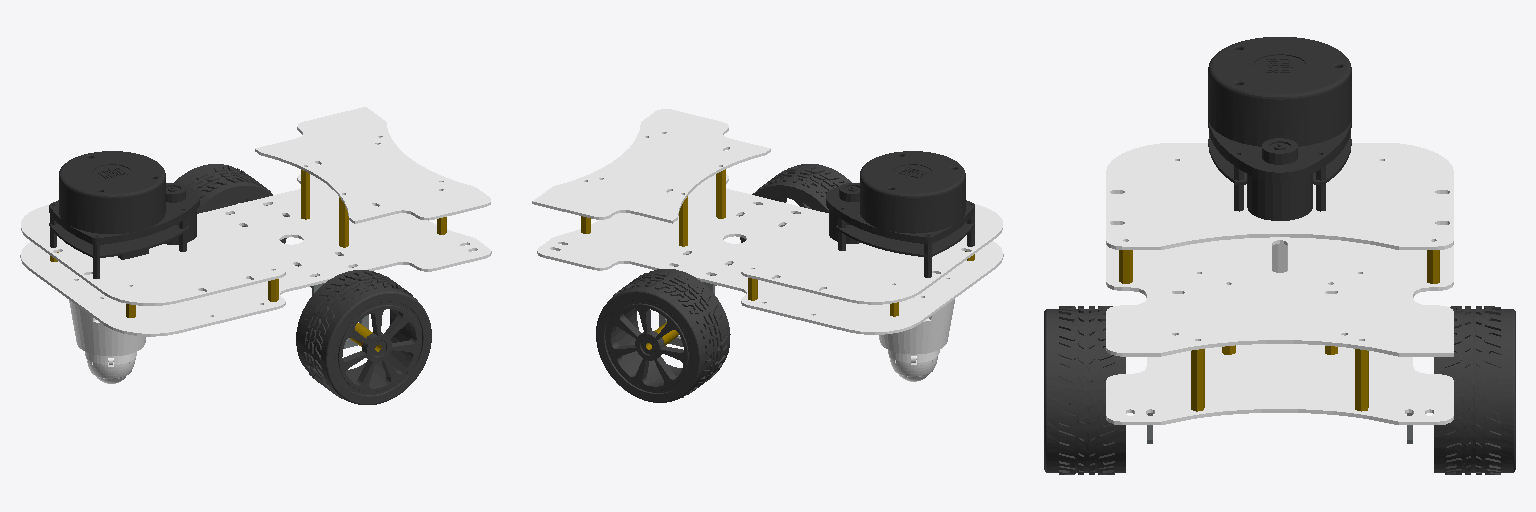
URDF robot description (bot_description):
<?xml version="1.0" encoding="utf-8"?>
<!-- This URDF was automatically created by SolidWorks to URDF Exporter! Originally created by [author] ([email redacted]) 
     Commit Version: 1.6.0-1-g15f4949  Build Version: 1.6.7594.29634
     For more information, please see http://wiki.ros.org/sw_urdf_exporter -->
<robot
  name="bot_description">
  <link
    name="base_link">
    <inertial>
      <origin
        xyz="-0.038188 -2.7756E-17 0"
        rpy="0 0 0" />
      <mass
        value="0.8" />
      <inertia
        ixx="0.0001804"
        ixy="-9.7007E-20"
        ixz="-3.3783E-22"
        iyy="0.00053906"
        iyz="-8.3789E-23"
        izz="0.0007194" />
    </inertial>
    <visual>
      <origin
        xyz="0 0 0"
        rpy="0 0 0" />
      <geometry>
        <mesh
          filename="package://bot_description/meshes/base_link.STL" />
      </geometry>
      <material
        name="">
        <color
          rgba="1 1 1 0.32" />
      </material>
    </visual>
    <collision>
      <origin
        xyz="0 0 0"
        rpy="0 0 0" />
      <geometry>
        <mesh
          filename="package://bot_description/meshes/base_link.STL" />
      </geometry>
    </collision>
  </link>
  <link
    name="right_bracket">
    <inertial>
      <origin
        xyz="-0.010316 0.013793 -3.4694E-18"
        rpy="0 0 0" />
      <mass
        value="0.045578" />
      <inertia
        ixx="2.1019E-05"
        ixy="3.1847E-06"
        ixz="-3.4097E-21"
        iyy="1.1949E-05"
        iyz="7.5589E-23"
        izz="1.6242E-05" />
    </inertial>
    <visual>
      <origin
        xyz="0 0 0"
        rpy="0 0 0" />
      <geometry>
        <mesh
          filename="package://bot_description/meshes/right_bracket.STL" />
      </geometry>
      <material
        name="">
        <color
          rgba="0.52941 0.54902 0.54902 1" />
      </material>
    </visual>
    <collision>
      <origin
        xyz="0 0 0"
        rpy="0 0 0" />
      <geometry>
        <mesh
          filename="package://bot_description/meshes/right_bracket.STL" />
      </geometry>
    </collision>
  </link>
  <joint
    name="right_bracket_joint"
    type="fixed">
    <origin
      xyz="0 -0.0475 -0.001"
      rpy="-1.5708 0 1.5708" />
    <parent
      link="base_link" />
    <child
      link="right_bracket" />
    <axis
      xyz="0 0 0" />
  </joint>
  <link
    name="right_coupler">
    <inertial>
      <origin
        xyz="-8.1082E-06 -0.015391 1.4045E-05"
        rpy="0 0 0" />
      <mass
        value="0.024489" />
      <inertia
        ixx="2.132E-06"
        ixy="2.5519E-09"
        ixz="-7.5949E-10"
        iyy="5.3128E-07"
        iyz="-4.42E-09"
        izz="2.1328E-06" />
    </inertial>
    <visual>
      <origin
        xyz="0 0 0"
        rpy="0 0 0" />
      <geometry>
        <mesh
          filename="package://bot_description/meshes/right_coupler.STL" />
      </geometry>
      <material
        name="">
        <color
          rgba="0.64706 0.51765 0 1" />
      </material>
    </visual>
    <collision>
      <origin
        xyz="0 0 0"
        rpy="0 0 0" />
      <geometry>
        <mesh
          filename="package://bot_description/meshes/right_coupler.STL" />
      </geometry>
    </collision>
  </link>
  <joint
    name="right_coupler_joint"
    type="fixed">
    <origin
      xyz="-0.036008 0.0304 0"
      rpy="-3.1416 0.97109 1.5708" />
    <parent
      link="right_bracket" />
    <child
      link="right_coupler" />
    <axis
      xyz="0 1 0" />
  </joint>
  <link
    name="right_wheel">
    <inertial>
      <origin
        xyz="-6.1785E-11 -1.3014E-11 0.014376"
        rpy="0 0 0" />
      <mass
        value="0.3445" />
      <inertia
        ixx="0.00022322"
        ixy="-1.5874E-13"
        ixz="-3.4623E-13"
        iyy="0.00022322"
        iyz="-1.3247E-14"
        izz="0.00035265" />
    </inertial>
    <visual>
      <origin
        xyz="0 0 0"
        rpy="0 0 0" />
      <geometry>
        <mesh
          filename="package://bot_description/meshes/right_wheel.STL" />
      </geometry>
      <material
        name="">
        <color
          rgba="0.29804 0.29804 0.29804 1" />
      </material>
    </visual>
    <collision>
      <origin
        xyz="0 0 0"
        rpy="0 0 0" />
      <geometry>
        <mesh
          filename="package://bot_description/meshes/right_wheel.STL" />
      </geometry>
    </collision>
  </link>
  <joint
    name="right_wheel_joint"
    type="continuous">
    <origin
      xyz="0 0 0"
      rpy="-1.5708 0.5236 -3.1416" />
    <parent
      link="right_coupler" />
    <child
      link="right_wheel" />
    <axis
      xyz="0 0 1" />
  </joint>
  <link
    name="left_bracket">
    <inertial>
      <origin
        xyz="-0.010316 0.013793 -1.2143E-17"
        rpy="0 0 0" />
      <mass
        value="0.045578" />
      <inertia
        ixx="2.1019E-05"
        ixy="3.1847E-06"
        ixz="3.2297E-21"
        iyy="1.1949E-05"
        iyz="1.7687E-20"
        izz="1.6242E-05" />
    </inertial>
    <visual>
      <origin
        xyz="0 0 0"
        rpy="0 0 0" />
      <geometry>
        <mesh
          filename="package://bot_description/meshes/left_bracket.STL" />
      </geometry>
      <material
        name="">
        <color
          rgba="0.52941 0.54902 0.54902 1" />
      </material>
    </visual>
    <collision>
      <origin
        xyz="0 0 0"
        rpy="0 0 0" />
      <geometry>
        <mesh
          filename="package://bot_description/meshes/left_bracket.STL" />
      </geometry>
    </collision>
  </link>
  <joint
    name="left_bracket_joint"
    type="fixed">
    <origin
      xyz="0 0.0475 -0.001"
      rpy="-1.5708 0 -1.5708" />
    <parent
      link="base_link" />
    <child
      link="left_bracket" />
    <axis
      xyz="0 0 0" />
  </joint>
  <link
    name="left_coupler">
    <inertial>
      <origin
        xyz="-8.0592E-06 -0.015391 1.4073E-05"
        rpy="0 0 0" />
      <mass
        value="0.024489" />
      <inertia
        ixx="2.132E-06"
        ixy="2.5519E-09"
        ixz="-7.5949E-10"
        iyy="5.3128E-07"
        iyz="-4.42E-09"
        izz="2.1328E-06" />
    </inertial>
    <visual>
      <origin
        xyz="0 0 0"
        rpy="0 0 0" />
      <geometry>
        <mesh
          filename="package://bot_description/meshes/left_coupler.STL" />
      </geometry>
      <material
        name="">
        <color
          rgba="0.64706 0.51765 0 1" />
      </material>
    </visual>
    <collision>
      <origin
        xyz="0 0 0"
        rpy="0 0 0" />
      <geometry>
        <mesh
          filename="package://bot_description/meshes/left_coupler.STL" />
      </geometry>
    </collision>
  </link>
  <joint
    name="left_coupler_joint"
    type="fixed">
    <origin
      xyz="-0.036008 0.0304 0"
      rpy="-3.1416 1.1233 1.5708" />
    <parent
      link="left_bracket" />
    <child
      link="left_coupler" />
    <axis
      xyz="0 1 0" />
  </joint>
  <link
    name="left_wheel">
    <inertial>
      <origin
        xyz="-5.6627E-08 -1.2522E-11 0.014376"
        rpy="0 0 0" />
      <mass
        value="0.3445" />
      <inertia
        ixx="0.00022322"
        ixy="-1.5874E-13"
        ixz="-3.4751E-13"
        iyy="0.00022322"
        iyz="-1.2402E-14"
        izz="0.00035265" />
    </inertial>
    <visual>
      <origin
        xyz="0 0 0"
        rpy="0 0 0" />
      <geometry>
        <mesh
          filename="package://bot_description/meshes/left_wheel.STL" />
      </geometry>
      <material
        name="">
        <color
          rgba="0.29804 0.29804 0.29804 1" />
      </material>
    </visual>
    <collision>
      <origin
        xyz="0 0 0"
        rpy="0 0 0" />
      <geometry>
        <mesh
          filename="package://bot_description/meshes/left_wheel.STL" />
      </geometry>
    </collision>
  </link>
  <joint
    name="left_wheel_joint"
    type="continuous">
    <origin
      xyz="0 0 0"
      rpy="-1.5708 0.5236 -3.1416" />
    <parent
      link="left_coupler" />
    <child
      link="left_wheel" />
    <axis
      xyz="0 0 1" />
  </joint>
  <link
    name="caster_one">
    <inertial>
      <origin
        xyz="1.3878E-17 0 -0.018712"
        rpy="0 0 0" />
      <mass
        value="0.066702" />
      <inertia
        ixx="2.3272E-05"
        ixy="1.5158E-20"
        ixz="-6.9489E-21"
        iyy="2.3272E-05"
        iyz="-4.1633E-22"
        izz="2.7761E-05" />
    </inertial>
    <visual>
      <origin
        xyz="0 0 0"
        rpy="0 0 0" />
      <geometry>
        <mesh
          filename="package://bot_description/meshes/caster_one.STL" />
      </geometry>
      <material
        name="">
        <color
          rgba="1 1 1 0.32" />
      </material>
    </visual>
    <collision>
      <origin
        xyz="0 0 0"
        rpy="0 0 0" />
      <geometry>
        <mesh
          filename="package://bot_description/meshes/caster_one.STL" />
      </geometry>
    </collision>
  </link>
  <joint
    name="caster_one_joint"
    type="fixed">
    <origin
      xyz="-0.136 0 -0.001"
      rpy="0 0 -1.5708" />
    <parent
      link="base_link" />
    <child
      link="caster_one" />
    <axis
      xyz="0 0 0" />
  </joint>
  <link
    name="caster_two">
    <inertial>
      <origin
        xyz="0.012696 0.028574 0.025162"
        rpy="0 0 0" />
      <mass
        value="0.01307" />
      <inertia
        ixx="9.4194E-07"
        ixy="-2.3215E-13"
        ixz="-5.5589E-13"
        iyy="1.2325E-06"
        iyz="8.936E-13"
        izz="9.4194E-07" />
    </inertial>
    <visual>
      <origin
        xyz="0 0 0"
        rpy="0 0 0" />
      <geometry>
        <mesh
          filename="package://bot_description/meshes/caster_two.STL" />
      </geometry>
      <material
        name="">
        <color
          rgba="1 1 1 0.32" />
      </material>
    </visual>
    <collision>
      <origin
        xyz="0 0 0"
        rpy="0 0 0" />
      <geometry>
        <mesh
          filename="package://bot_description/meshes/caster_two.STL" />
      </geometry>
    </collision>
  </link>
  <joint
    name="caster_two_joint"
    type="fixed">
    <origin
      xyz="-0.012696 -0.025162 -0.025282"
      rpy="-1.5708 0 0" />
    <parent
      link="caster_one" />
    <child
      link="caster_two" />
    <axis
      xyz="0 0 0" />
  </joint>
  <link
    name="back_standoff_one">
    <inertial>
      <origin
        xyz="2.7756E-17 0 0.0175"
        rpy="0 0 0" />
      <mass
        value="0.0073655" />
      <inertia
        ixx="7.7487E-07"
        ixy="3.9705E-23"
        ixz="1.642E-23"
        iyy="7.7487E-07"
        iyz="1.782E-23"
        izz="4.5962E-08" />
    </inertial>
    <visual>
      <origin
        xyz="0 0 0"
        rpy="0 0 0" />
      <geometry>
        <mesh
          filename="package://bot_description/meshes/back_standoff_one.STL" />
      </geometry>
      <material
        name="">
        <color
          rgba="0.64706 0.51765 0 1" />
      </material>
    </visual>
    <collision>
      <origin
        xyz="0 0 0"
        rpy="0 0 0" />
      <geometry>
        <mesh
          filename="package://bot_description/meshes/back_standoff_one.STL" />
      </geometry>
    </collision>
  </link>
  <joint
    name="back_standoff_one_joint"
    type="fixed">
    <origin
      xyz="0.09 -0.04 0.036"
      rpy="3.1416 0 -2.8162" />
    <parent
      link="base_link" />
    <child
      link="back_standoff_one" />
    <axis
      xyz="0 0 1" />
  </joint>
  <link
    name="back_cover">
    <inertial>
      <origin
        xyz="-0.00014942 -0.0036131 0.001"
        rpy="0 0 0" />
      <mass
        value="0.025884" />
      <inertia
        ixx="1.3684E-05"
        ixy="-8.4145E-08"
        ixz="4.4233E-24"
        iyy="5.9797E-05"
        iyz="1.4418E-23"
        izz="7.3464E-05" />
    </inertial>
    <visual>
      <origin
        xyz="0 0 0"
        rpy="0 0 0" />
      <geometry>
        <mesh
          filename="package://bot_description/meshes/back_cover.STL" />
      </geometry>
      <material
        name="">
        <color
          rgba="1 1 1 0.32" />
      </material>
    </visual>
    <collision>
      <origin
        xyz="0 0 0"
        rpy="0 0 0" />
      <geometry>
        <mesh
          filename="package://bot_description/meshes/back_cover.STL" />
      </geometry>
    </collision>
  </link>
  <joint
    name="back_cover_joint"
    type="fixed">
    <origin
      xyz="0.018006 0.048291 -0.002"
      rpy="0 0 -1.2454" />
    <parent
      link="back_standoff_one" />
    <child
      link="back_cover" />
    <axis
      xyz="0 0 0" />
  </joint>
  <link
    name="back_standoff_two">
    <inertial>
      <origin
        xyz="2.7756E-17 1.3878E-17 0.0175"
        rpy="0 0 0" />
      <mass
        value="0.0073655" />
      <inertia
        ixx="7.7487E-07"
        ixy="0"
        ixz="-4.8215E-23"
        iyy="7.7487E-07"
        iyz="2.1993E-23"
        izz="4.5962E-08" />
    </inertial>
    <visual>
      <origin
        xyz="0 0 0"
        rpy="0 0 0" />
      <geometry>
        <mesh
          filename="package://bot_description/meshes/back_standoff_two.STL" />
      </geometry>
      <material
        name="">
        <color
          rgba="0.64706 0.51765 0 1" />
      </material>
    </visual>
    <collision>
      <origin
        xyz="0 0 0"
        rpy="0 0 0" />
      <geometry>
        <mesh
          filename="package://bot_description/meshes/back_standoff_two.STL" />
      </geometry>
    </collision>
  </link>
  <joint
    name="back_standoff_two_joint"
    type="fixed">
    <origin
      xyz="0.025 -0.025 0.036"
      rpy="3.1416 0 -2.4359" />
    <parent
      link="base_link" />
    <child
      link="back_standoff_two" />
    <axis
      xyz="0 0 1" />
  </joint>
  <link
    name="back_standoff_three">
    <inertial>
      <origin
        xyz="-1.3878E-17 0 0.0175"
        rpy="0 0 0" />
      <mass
        value="0.0073655" />
      <inertia
        ixx="7.7487E-07"
        ixy="-2.647E-23"
        ixz="5.1135E-23"
        iyy="7.7487E-07"
        iyz="2.2887E-23"
        izz="4.5962E-08" />
    </inertial>
    <visual>
      <origin
        xyz="0 0 0"
        rpy="0 0 0" />
      <geometry>
        <mesh
          filename="package://bot_description/meshes/back_standoff_three.STL" />
      </geometry>
      <material
        name="">
        <color
          rgba="0.64706 0.51765 0 1" />
      </material>
    </visual>
    <collision>
      <origin
        xyz="0 0 0"
        rpy="0 0 0" />
      <geometry>
        <mesh
          filename="package://bot_description/meshes/back_standoff_three.STL" />
      </geometry>
    </collision>
  </link>
  <joint
    name="back_standoff_three_joint"
    type="fixed">
    <origin
      xyz="0.025 0.025 0.036"
      rpy="3.1416 0 -2.5951" />
    <parent
      link="base_link" />
    <child
      link="back_standoff_three" />
    <axis
      xyz="0 0 1" />
  </joint>
  <link
    name="back_standoff_four">
    <inertial>
      <origin
        xyz="0 -2.7756E-17 0.0175"
        rpy="0 0 0" />
      <mass
        value="0.0073655" />
      <inertia
        ixx="7.7487E-07"
        ixy="0"
        ixz="-1.211E-22"
        iyy="7.7487E-07"
        iyz="1.9507E-22"
        izz="4.5962E-08" />
    </inertial>
    <visual>
      <origin
        xyz="0 0 0"
        rpy="0 0 0" />
      <geometry>
        <mesh
          filename="package://bot_description/meshes/back_standoff_four.STL" />
      </geometry>
      <material
        name="">
        <color
          rgba="0.64706 0.51765 0 1" />
      </material>
    </visual>
    <collision>
      <origin
        xyz="0 0 0"
        rpy="0 0 0" />
      <geometry>
        <mesh
          filename="package://bot_description/meshes/back_standoff_four.STL" />
      </geometry>
    </collision>
  </link>
  <joint
    name="back_standoff_four_joint"
    type="fixed">
    <origin
      xyz="0.09 0.04 0.036"
      rpy="3.1416 0 -2.7228" />
    <parent
      link="base_link" />
    <child
      link="back_standoff_four" />
    <axis
      xyz="0 0 1" />
  </joint>
  <link
    name="front_standoff_one">
    <inertial>
      <origin
        xyz="0 5.5511E-17 0.01"
        rpy="0 0 0" />
      <mass
        value="0.0042088" />
      <inertia
        ixx="1.5343E-07"
        ixy="1.3235E-23"
        ixz="1.6175E-23"
        iyy="1.5343E-07"
        iyz="-2.8612E-24"
        izz="2.6264E-08" />
    </inertial>
    <visual>
      <origin
        xyz="0 0 0"
        rpy="0 0 0" />
      <geometry>
        <mesh
          filename="package://bot_description/meshes/front_standoff_one.STL" />
      </geometry>
      <material
        name="">
        <color
          rgba="0.64706 0.51765 0 1" />
      </material>
    </visual>
    <collision>
      <origin
        xyz="0 0 0"
        rpy="0 0 0" />
      <geometry>
        <mesh
          filename="package://bot_description/meshes/front_standoff_one.STL" />
      </geometry>
    </collision>
  </link>
  <joint
    name="front_standoff_one_joint"
    type="fixed">
    <origin
      xyz="-0.15 -0.05 0.021"
      rpy="3.1416 0 -1.951" />
    <parent
      link="base_link" />
    <child
      link="front_standoff_one" />
    <axis
      xyz="0 0 1" />
  </joint>
  <link
    name="front_cover">
    <inertial>
      <origin
        xyz="-0.0375 0.11198 -0.023"
        rpy="0 0 0" />
      <mass
        value="0.039529" />
      <inertia
        ixx="4.0934E-05"
        ixy="1.0552E-20"
        ixz="1.7885E-23"
        iyy="9.4447E-05"
        iyz="9.8495E-23"
        izz="0.00013535" />
    </inertial>
    <visual>
      <origin
        xyz="0 0 0"
        rpy="0 0 0" />
      <geometry>
        <mesh
          filename="package://bot_description/meshes/front_cover.STL" />
      </geometry>
      <material
        name="">
        <color
          rgba="1 1 1 0.32" />
      </material>
    </visual>
    <collision>
      <origin
        xyz="0 0 0"
        rpy="0 0 0" />
      <geometry>
        <mesh
          filename="package://bot_description/meshes/front_cover.STL" />
      </geometry>
    </collision>
  </link>
  <joint
    name="front_cover_joint"
    type="fixed">
    <origin
      xyz="-0.06728 -0.13465 0.022"
      rpy="0 0 -0.38025" />
    <parent
      link="front_standoff_one" />
    <child
      link="front_cover" />
    <axis
      xyz="0 0 0" />
  </joint>
  <link
    name="lidar">
    <inertial>
      <origin
        xyz="-0.0074835 0.010668 9.1926E-05"
        rpy="0 0 0" />
      <mass
        value="0.22179" />
      <inertia
        ixx="0.00010249"
        ixy="2.6374E-05"
        ixz="1.3366E-07"
        iyy="0.00018303"
        iyz="5.1527E-07"
        izz="0.00016012" />
    </inertial>
    <visual>
      <origin
        xyz="0 0 0"
        rpy="0 0 0" />
      <geometry>
        <mesh
          filename="package://bot_description/meshes/lidar.STL" />
      </geometry>
      <material
        name="">
        <color
          rgba="0.25098 0.25098 0.25098 1" />
      </material>
    </visual>
    <collision>
      <origin
        xyz="0 0 0"
        rpy="0 0 0" />
      <geometry>
        <mesh
          filename="package://bot_description/meshes/lidar.STL" />
      </geometry>
    </collision>
  </link>
  <joint
    name="lidar_joint"
    type="fixed">
    <origin
      xyz="-0.0375 0.1209 -0.0486"
      rpy="-1.5708 0 -1.5708" />
    <parent
      link="front_cover" />
    <child
      link="lidar" />
    <axis
      xyz="0 0 0" />
  </joint>
  <link
    name="front_standoff_two">
    <inertial>
      <origin
        xyz="-1.0408E-17 -1.3878E-17 0.01"
        rpy="0 0 0" />
      <mass
        value="0.0042088" />
      <inertia
        ixx="1.5343E-07"
        ixy="0"
        ixz="-6.3096E-24"
        iyy="1.5343E-07"
        iyz="-1.1957E-23"
        izz="2.6264E-08" />
    </inertial>
    <visual>
      <origin
        xyz="0 0 0"
        rpy="0 0 0" />
      <geometry>
        <mesh
          filename="package://bot_description/meshes/front_standoff_two.STL" />
      </geometry>
      <material
        name="">
        <color
          rgba="0.64706 0.51765 0 1" />
      </material>
    </visual>
    <collision>
      <origin
        xyz="0 0 0"
        rpy="0 0 0" />
      <geometry>
        <mesh
          filename="package://bot_description/meshes/front_standoff_two.STL" />
      </geometry>
    </collision>
  </link>
  <joint
    name="front_standoff_two_joint"
    type="fixed">
    <origin
      xyz="-0.057 -0.075 0.021"
      rpy="3.1416 0 -2.1103" />
    <parent
      link="base_link" />
    <child
      link="front_standoff_two" />
    <axis
      xyz="0 0 1" />
  </joint>
  <link
    name="front_standoff_three">
    <inertial>
      <origin
        xyz="2.7756E-17 -2.7756E-17 0.01"
        rpy="0 0 0" />
      <mass
        value="0.0042088" />
      <inertia
        ixx="1.5343E-07"
        ixy="-4.1359E-23"
        ixz="-7.1884E-25"
        iyy="1.5343E-07"
        iyz="1.1156E-23"
        izz="2.6264E-08" />
    </inertial>
    <visual>
      <origin
        xyz="0 0 0"
        rpy="0 0 0" />
      <geometry>
        <mesh
          filename="package://bot_description/meshes/front_standoff_three.STL" />
      </geometry>
      <material
        name="">
        <color
          rgba="0.64706 0.51765 0 1" />
      </material>
    </visual>
    <collision>
      <origin
        xyz="0 0 0"
        rpy="0 0 0" />
      <geometry>
        <mesh
          filename="package://bot_description/meshes/front_standoff_three.STL" />
      </geometry>
    </collision>
  </link>
  <joint
    name="front_standoff_three_joint"
    type="fixed">
    <origin
      xyz="-0.057 0.075 0.021"
      rpy="3.1416 0 -1.73" />
    <parent
      link="base_link" />
    <child
      link="front_standoff_three" />
    <axis
      xyz="0 0 1" />
  </joint>
  <link
    name="front_standoff_four">
    <inertial>
      <origin
        xyz="0 2.7756E-17 0.01"
        rpy="0 0 0" />
      <mass
        value="0.0042088" />
      <inertia
        ixx="1.5343E-07"
        ixy="4.3343E-23"
        ixz="-3.2914E-24"
        iyy="1.5343E-07"
        iyz="3.1968E-24"
        izz="2.6264E-08" />
    </inertial>
    <visual>
      <origin
        xyz="0 0 0"
        rpy="0 0 0" />
      <geometry>
        <mesh
          filename="package://bot_description/meshes/front_standoff_four.STL" />
      </geometry>
      <material
        name="">
        <color
          rgba="0.64706 0.51765 0 1" />
      </material>
    </visual>
    <collision>
      <origin
        xyz="0 0 0"
        rpy="0 0 0" />
      <geometry>
        <mesh
          filename="package://bot_description/meshes/front_standoff_four.STL" />
      </geometry>
    </collision>
  </link>
  <joint
    name="front_standoff_four_joint"
    type="fixed">
    <origin
      xyz="-0.15 0.05 0.021"
      rpy="3.1416 0 -1.5708" />
    <parent
      link="base_link" />
    <child
      link="front_standoff_four" />
    <axis
      xyz="0 0 1" />
  </joint>
</robot>

--- What the picture shows (computed from the rendered views, not written in the file) ---
3 views of the same robot in one strip: view 1: azimuth 30°, elevation 25°; view 2: azimuth 150°, elevation 25°; view 3: azimuth 270°, elevation 25° (orthographic).
Model bot_description with 20 links and 19 joints (2 continuous, 17 fixed), rooted at base_link, posed all joints at 0.
Visible links, largest first — view 1: base_link, right_wheel, lidar, back_cover, front_cover, left_wheel, caster_one, caster_two; view 2: base_link, left_wheel, back_cover, lidar, front_cover, right_wheel, caster_one, caster_two; view 3: base_link, front_cover, back_cover, lidar, right_wheel, left_wheel, back_standoff_one, back_standoff_four.
Boxes of the visible links, x1,y1,x2,y2 form: base_link: (20, 174, 491, 336); right_wheel: (296, 270, 431, 404); lidar: (49, 151, 199, 278); back_cover: (255, 107, 490, 223); front_cover: (21, 182, 285, 305); left_wheel: (174, 164, 286, 243); caster_one: (69, 300, 145, 356); caster_two: (85, 352, 136, 383); base_link: (537, 174, 1003, 334); left_wheel: (596, 269, 730, 402); back_cover: (532, 109, 770, 223); lidar: (826, 151, 974, 277); front_cover: (741, 182, 1002, 304); right_wheel: (740, 164, 851, 242); caster_one: (879, 299, 954, 354); caster_two: (888, 350, 939, 381); base_link: (1106, 237, 1453, 424); front_cover: (1106, 143, 1453, 249); back_cover: (1106, 271, 1453, 356); lidar: (1208, 37, 1351, 220); right_wheel: (1044, 306, 1125, 474); left_wheel: (1434, 306, 1515, 474); back_standoff_one: (1191, 349, 1204, 411); back_standoff_four: (1355, 349, 1368, 411).
Size in the robot's own frame: 0.2752 by 0.2297 by 0.1533 metres.
Meshes: 20 distinct files referenced, 20 mesh visuals loaded (20 binary STL).
